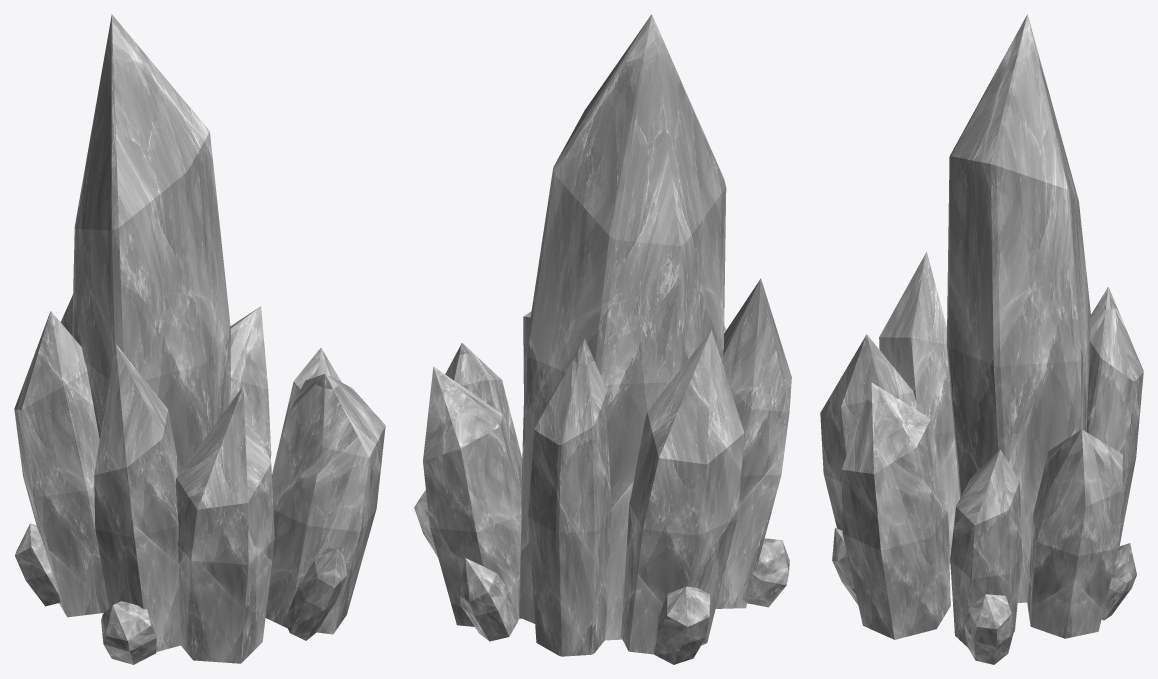
The model's file is Ore_B7.fbx.
3 views of the same model, side by side, from view 1: azimuth 30°, elevation 25°; view 2: azimuth 150°, elevation 25°; view 3: azimuth 270°, elevation 25° (orthographic). The views are drawn at different scales.
Parts seen in each view (by area): view 1: Ore_B7_LOD0; view 2: Ore_B7_LOD0; view 3: Ore_B7_LOD0.
Part boxes in pixels (x1=…): Ore_B7_LOD0: x1=14, y1=14, x2=385, y2=664; Ore_B7_LOD0: x1=414, y1=14, x2=791, y2=664; Ore_B7_LOD0: x1=820, y1=14, x2=1143, y2=664.
Size of what is drawn, in the model's own units: 1.07 by 1.83 by 0.9709.
1 material, 1 textured.
